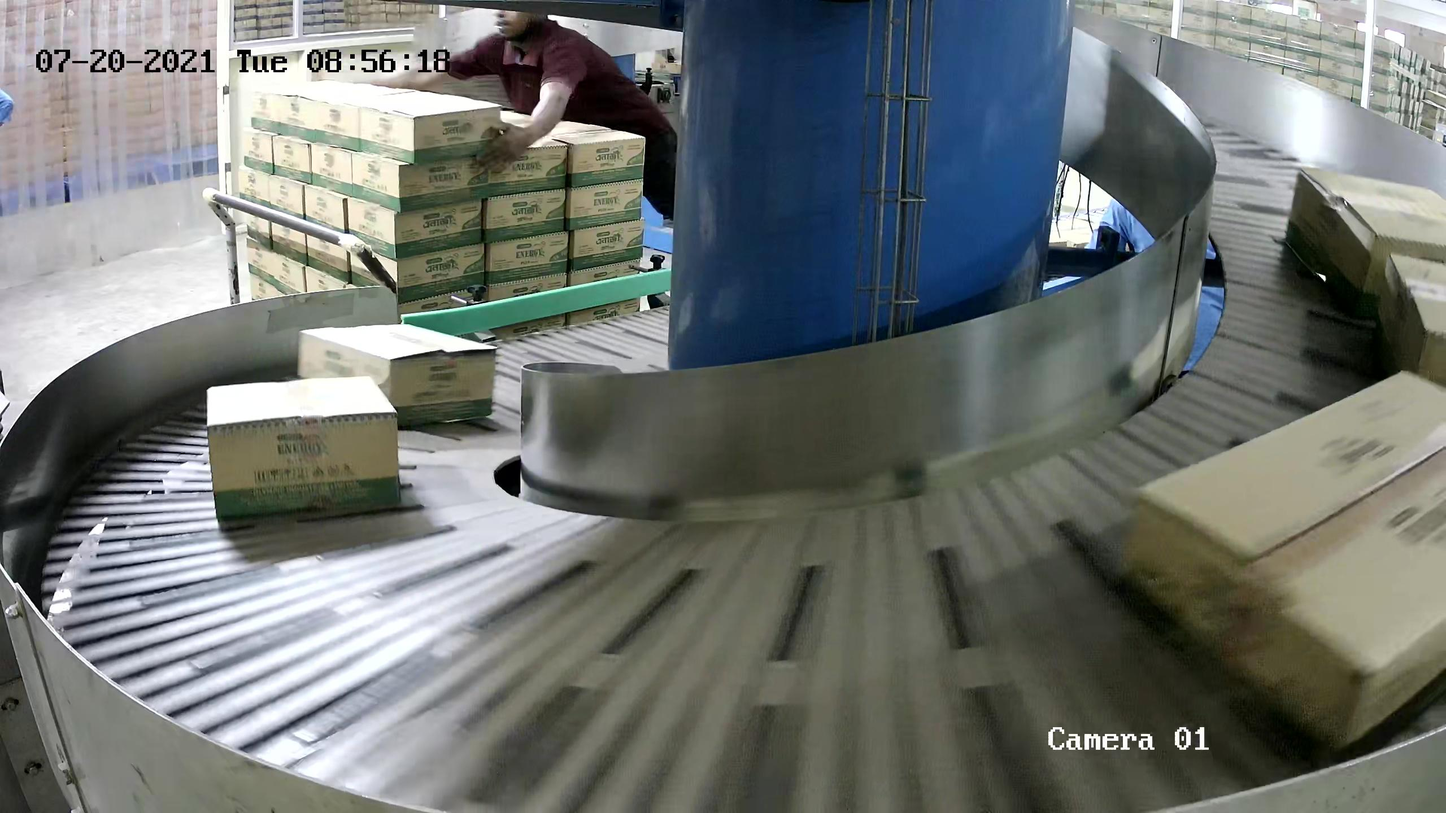Box: (1116, 366, 1446, 774), (205, 374, 401, 518), (1283, 164, 1446, 322), (296, 322, 498, 428)
